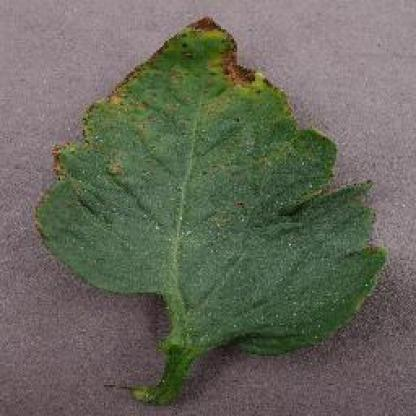bad leaf: (47, 37, 398, 414), (18, 5, 313, 110), (239, 106, 402, 278), (22, 97, 170, 254)
